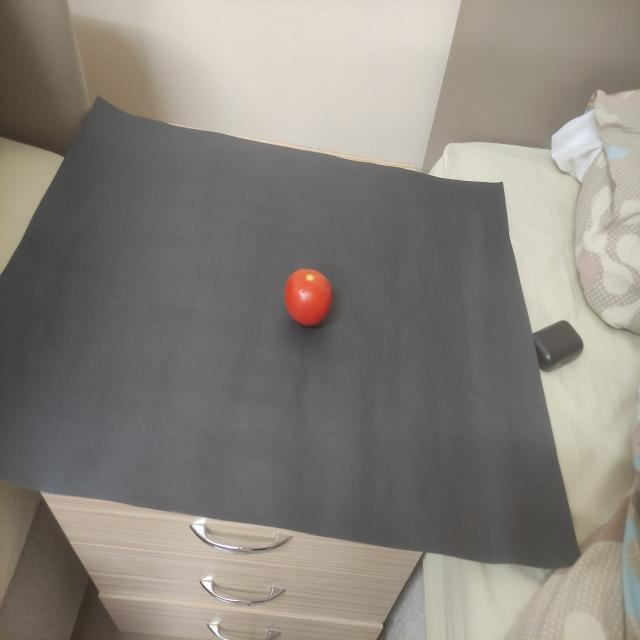kirmizi: (274, 249, 341, 341)
